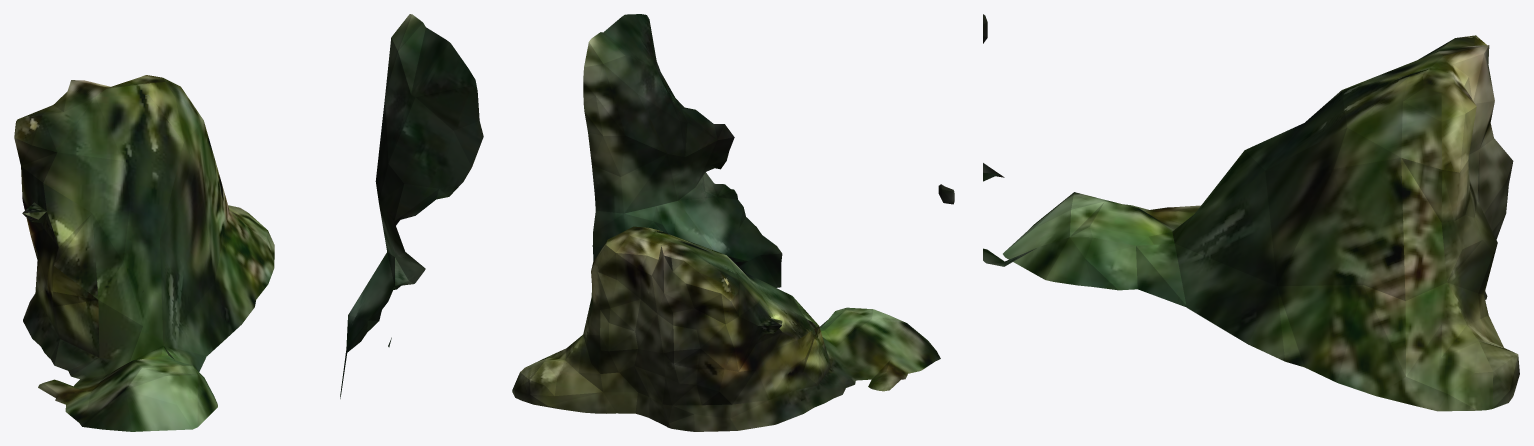
The picture shows the model from 3 angles, left to right: view 1: azimuth 30°, elevation 25°; view 2: azimuth 150°, elevation 25°; view 3: azimuth 270°, elevation 25°; orthographic projection. The views are drawn at different scales.
Size of the model in its own units: 0.6928 by 0.5449 by 0.6873.
Materials: 2 (2 with a texture image).
